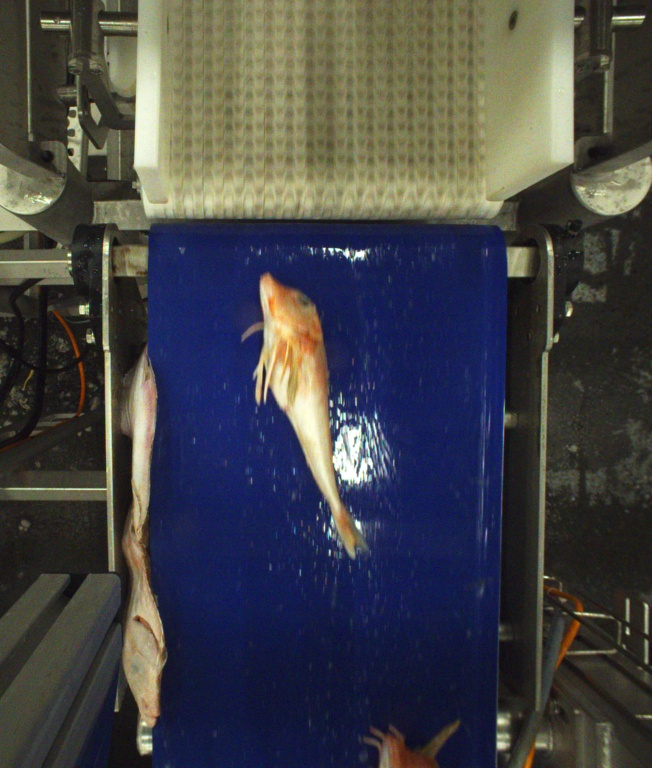GUU: (364, 719, 463, 768)
